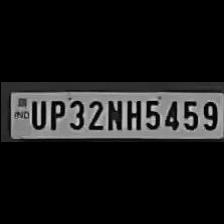2: (84, 97, 104, 130)
3: (64, 97, 84, 130)
4: (160, 97, 180, 130)
5: (142, 96, 160, 130), (180, 97, 198, 130)
9: (199, 98, 219, 130)
H: (123, 96, 141, 130)
N: (104, 97, 122, 131)
P: (46, 97, 64, 130)
U: (26, 97, 44, 129)
